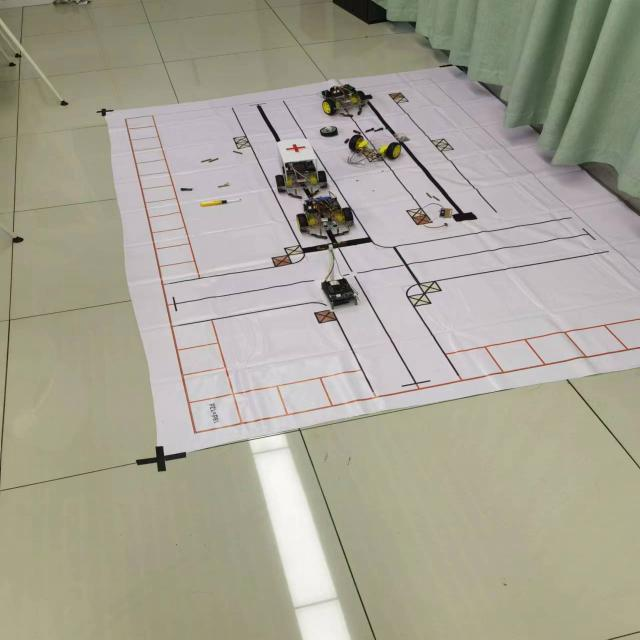RedCross: (282, 142, 309, 152)
